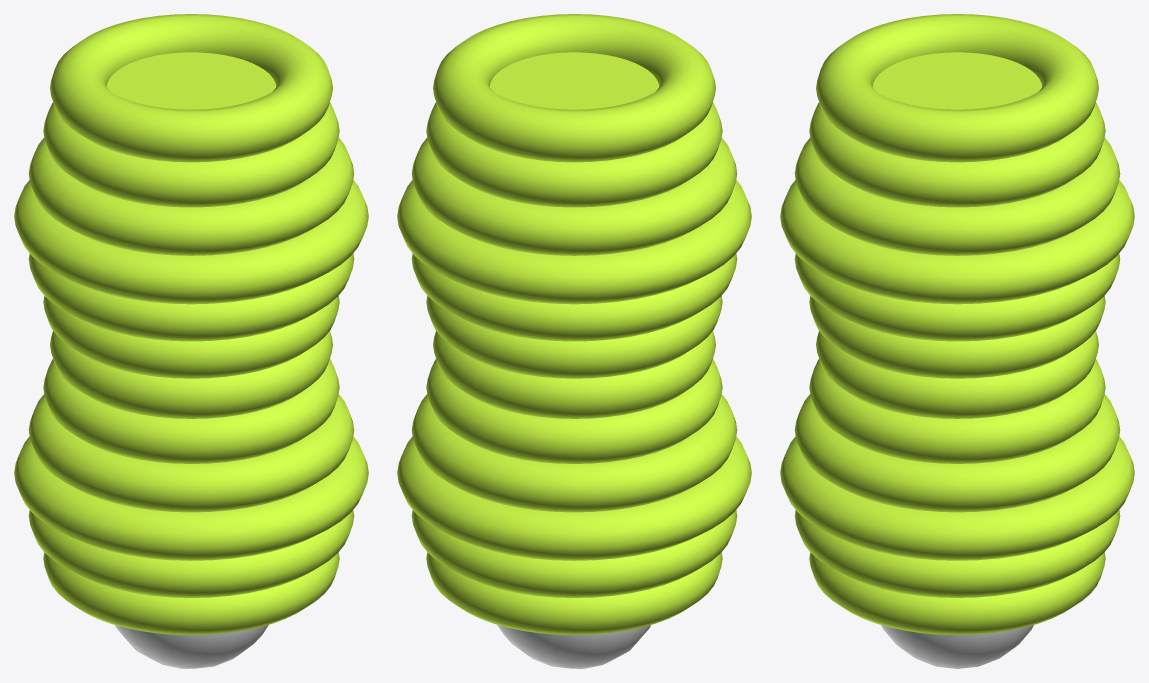
File: moduleT.gltf
The picture shows the model from 3 angles, left to right: view 1: azimuth 30°, elevation 25°; view 2: azimuth 150°, elevation 25°; view 3: azimuth 270°, elevation 25°; orthographic projection.
Parts seen in each view (by area): view 1: Torus_1, Torus_4, Torus_10, Torus_9, Torus_3, Torus_2, Torus_8, Torus_11, Torus_5, Torus_7, Torus_6, Torus_12 (+2 smaller); view 2: Torus_1, Torus_4, Torus_10, Torus_9, Torus_3, Torus_2, Torus_8, Torus_11, Torus_5, Torus_7, Torus_6, Torus_12 (+2 smaller); view 3: Torus_1, Torus_4, Torus_10, Torus_3, Torus_9, Torus_2, Torus_8, Torus_11, Torus_5, Torus_7, Torus_6, Torus_12 (+2 smaller).
Boxes of the visible parts, x1,y1,x2,y2 form: Torus_1: (50,14,332,162); Torus_4: (14,180,368,304); Torus_10: (14,436,368,560); Torus_9: (28,394,354,512); Torus_3: (28,138,354,255); Torus_2: (43,102,339,207); Torus_8: (43,359,339,463); Torus_11: (28,510,354,597); Torus_5: (28,253,354,341); Torus_7: (50,331,332,418); Torus_6: (43,296,339,378); Torus_12: (43,552,339,635); Torus_1: (433,14,715,162); Torus_4: (397,180,751,304); Torus_10: (397,436,751,560); Torus_9: (411,394,737,512); Torus_3: (411,138,737,255); Torus_2: (426,102,722,207); Torus_8: (426,359,722,463); Torus_11: (411,510,737,597); Torus_5: (411,253,737,341); Torus_7: (433,331,715,418); Torus_6: (426,296,722,378); Torus_12: (426,552,722,635); Torus_1: (816,14,1098,162); Torus_4: (780,180,1134,304); Torus_10: (780,436,1134,560); Torus_3: (794,138,1120,255); Torus_9: (794,394,1120,512); Torus_2: (809,102,1105,207); Torus_8: (809,359,1105,463); Torus_11: (794,510,1120,597); Torus_5: (794,253,1120,341); Torus_7: (816,331,1098,418); Torus_6: (809,296,1105,378); Torus_12: (809,552,1105,635).
Size of what is drawn, in the model's own units: 1.97 by 3.65 by 1.97.
